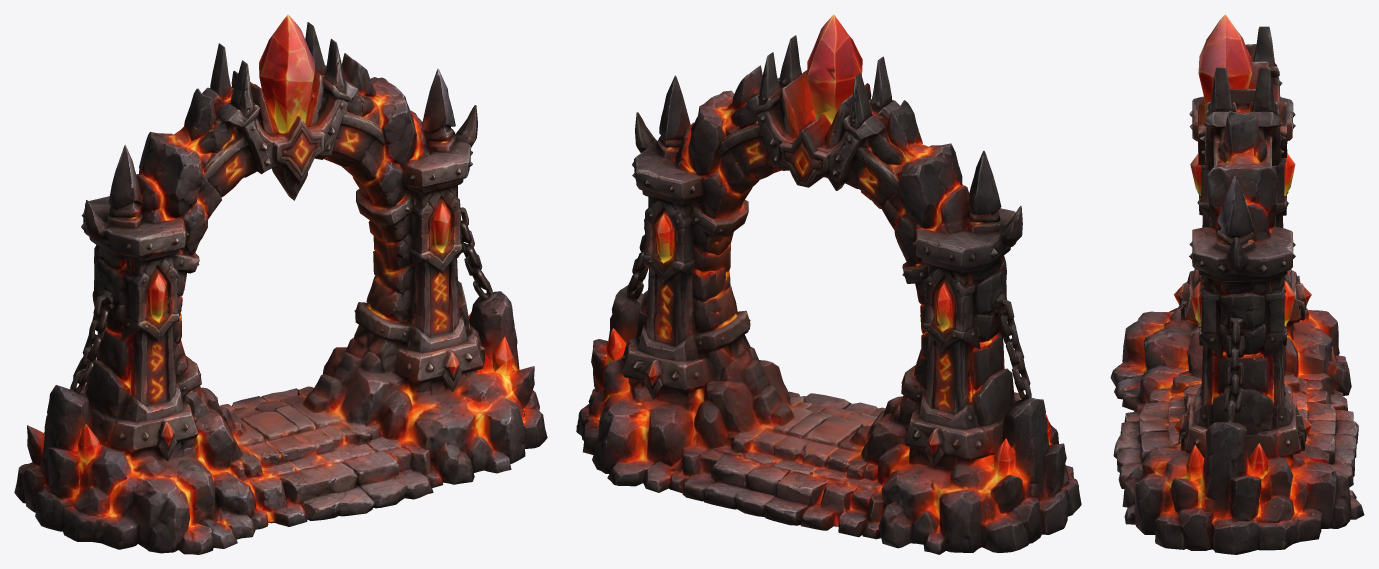
The model's file is Gate_Lava.fbx.
3 views of the same model, side by side, from view 1: azimuth 30°, elevation 25°; view 2: azimuth 150°, elevation 25°; view 3: azimuth 270°, elevation 25° (orthographic). The views are drawn at different scales.
Visible parts, largest first — view 1: Gate_Lava; view 2: Gate_Lava; view 3: Gate_Lava.
Part boxes in pixels (<box>): Gate_Lava: <box>14,14,547,554</box>; Gate_Lava: <box>576,14,1081,554</box>; Gate_Lava: <box>1110,14,1364,554</box>.
Size of the model in its own units: 522 by 480 by 254.
Materials: 1 (1 with a texture image).
